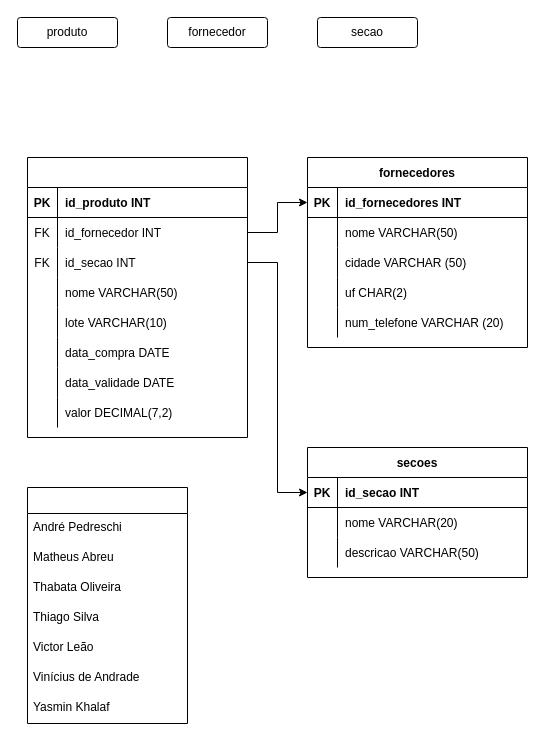
Image size: 545x744. Some labels were removed from this diagram. Here are the shapes that lost their labels. From the top down, the box of each, then its label:
(26, 156, 248, 438): produtos
(26, 486, 188, 724): Integrantes
